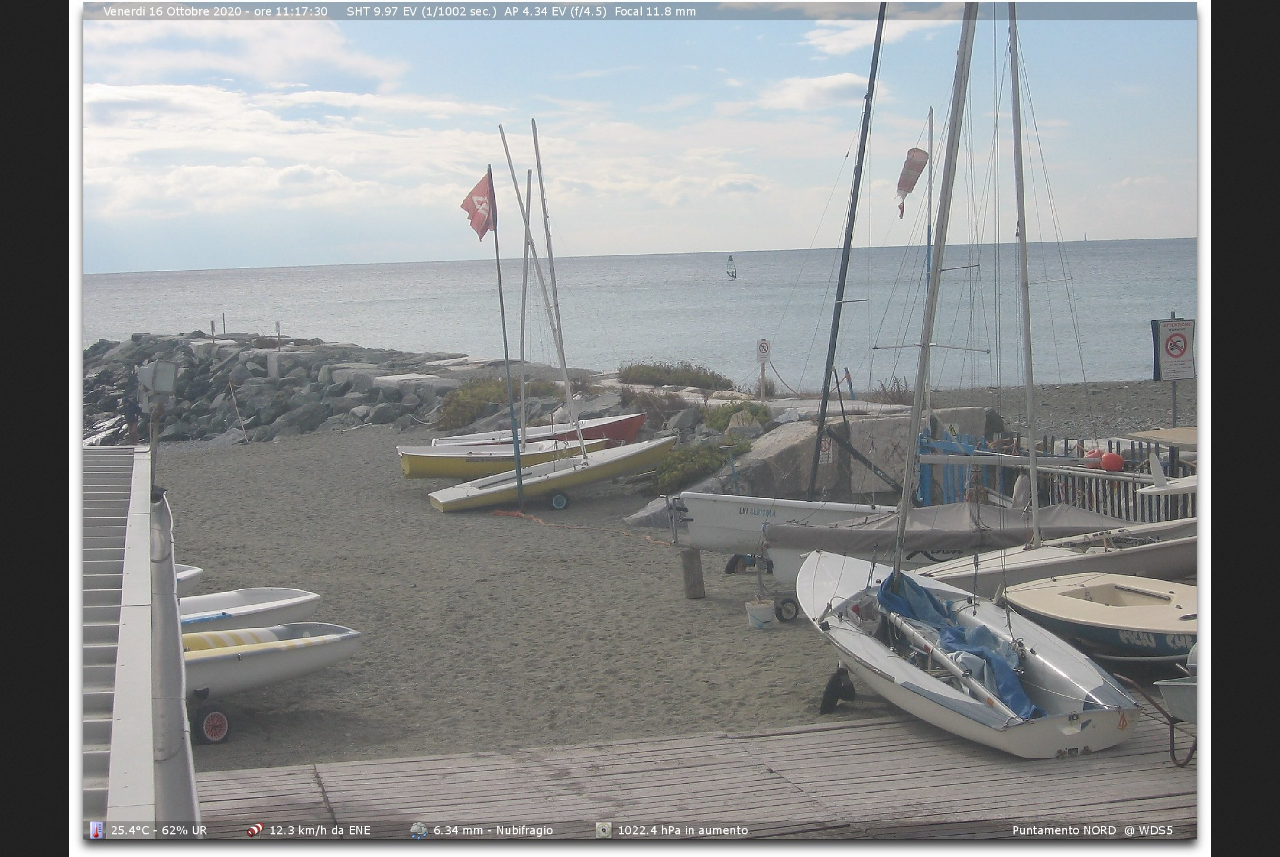yes: (461, 171, 498, 242)
